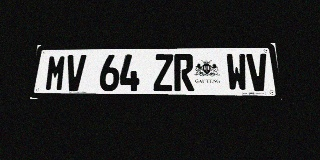4: (119, 54, 140, 91)
6: (99, 54, 120, 91)
M: (44, 55, 67, 91)
R: (174, 54, 194, 91)
V: (246, 53, 270, 91), (64, 55, 86, 91)
W: (225, 54, 248, 91)
Z: (153, 54, 173, 91)
